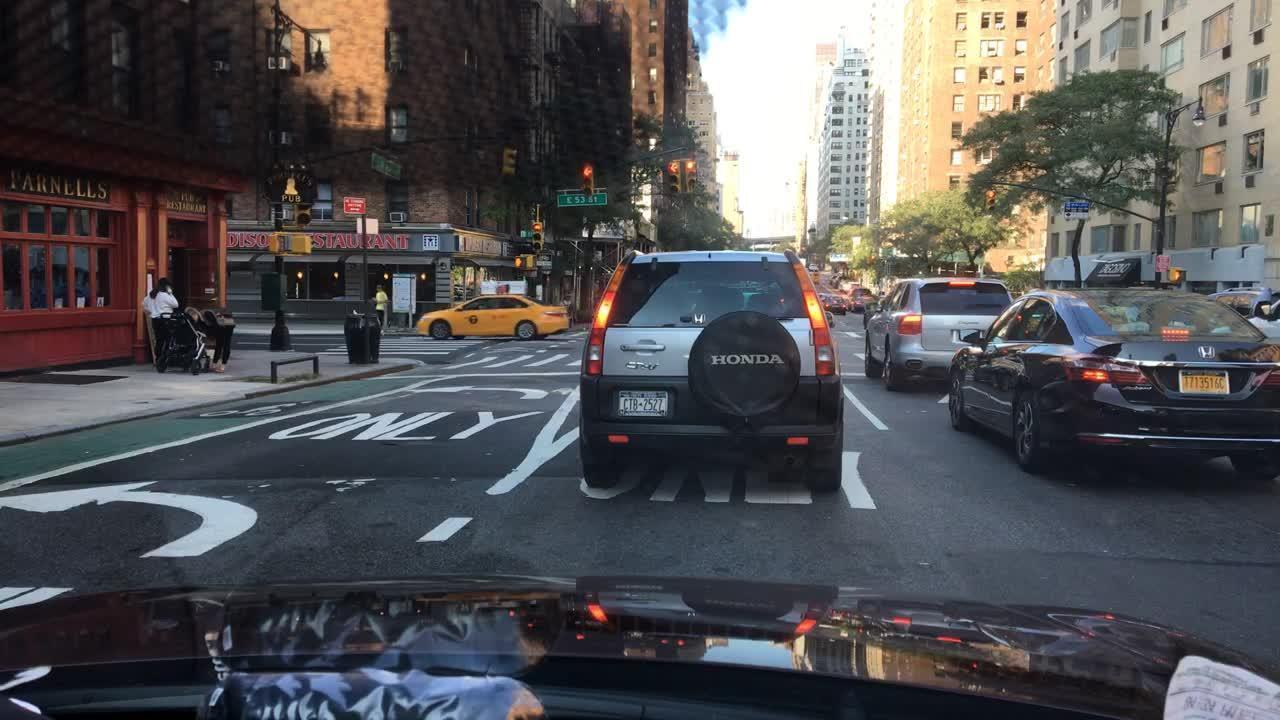Honda: (703, 344, 791, 370), (1185, 340, 1226, 370)
